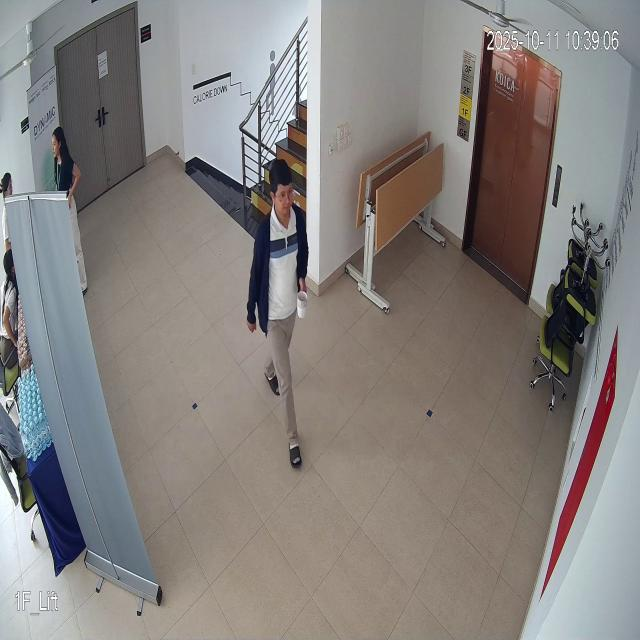face: (268, 146, 301, 232)
